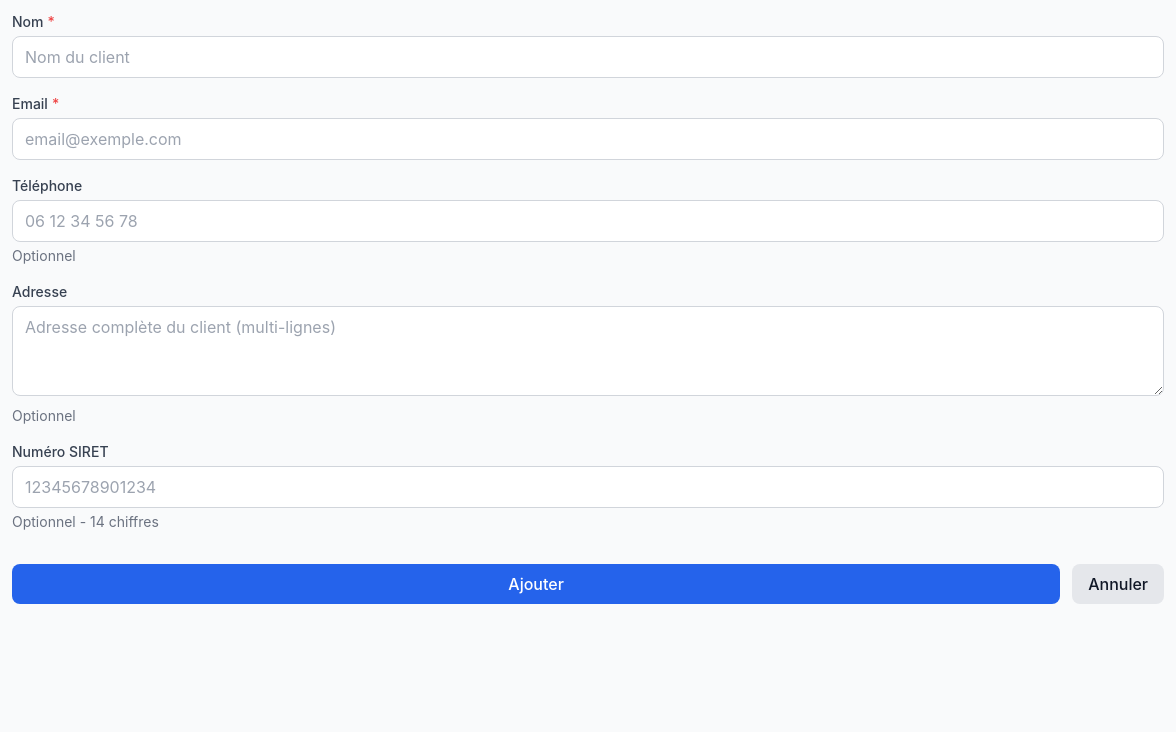
Test case: ClientForm › shows required error for empty nom on submit
Step 1. Type "test@example.com" into the field with placeholder "email@exemple.com" → (588, 139), box x1=12 y1=118 x2=1164 y2=160
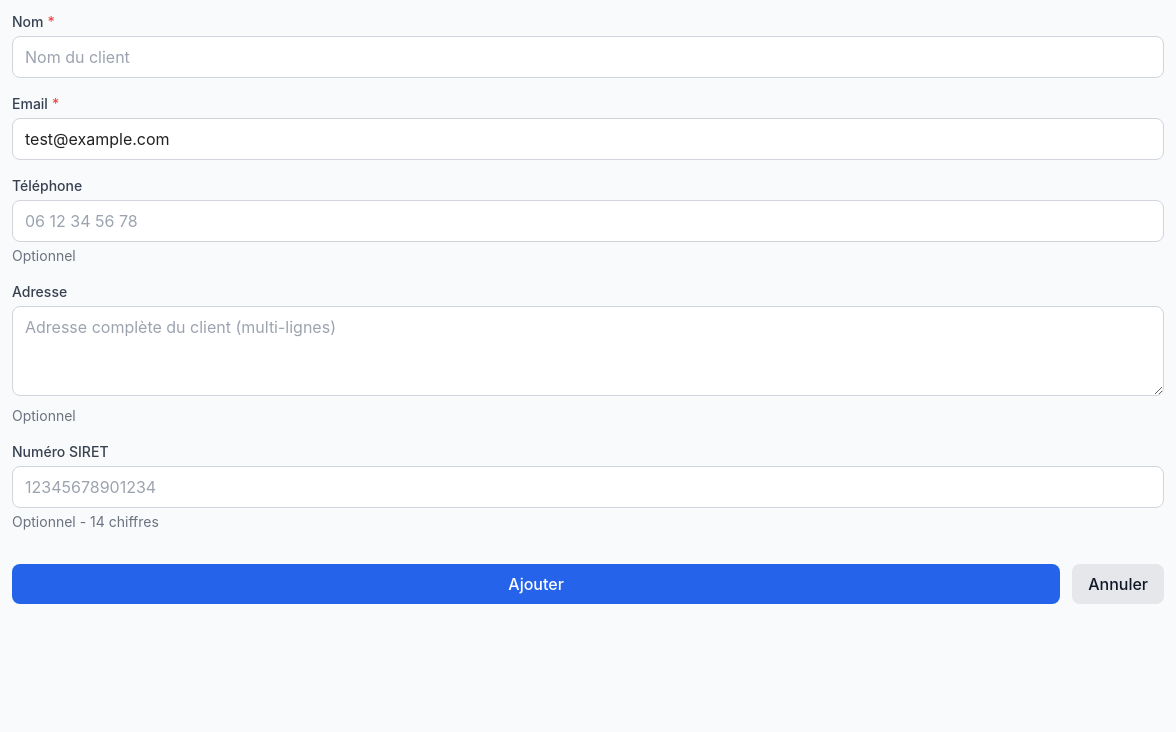
Step 2. Submit the form named "Ajouter"
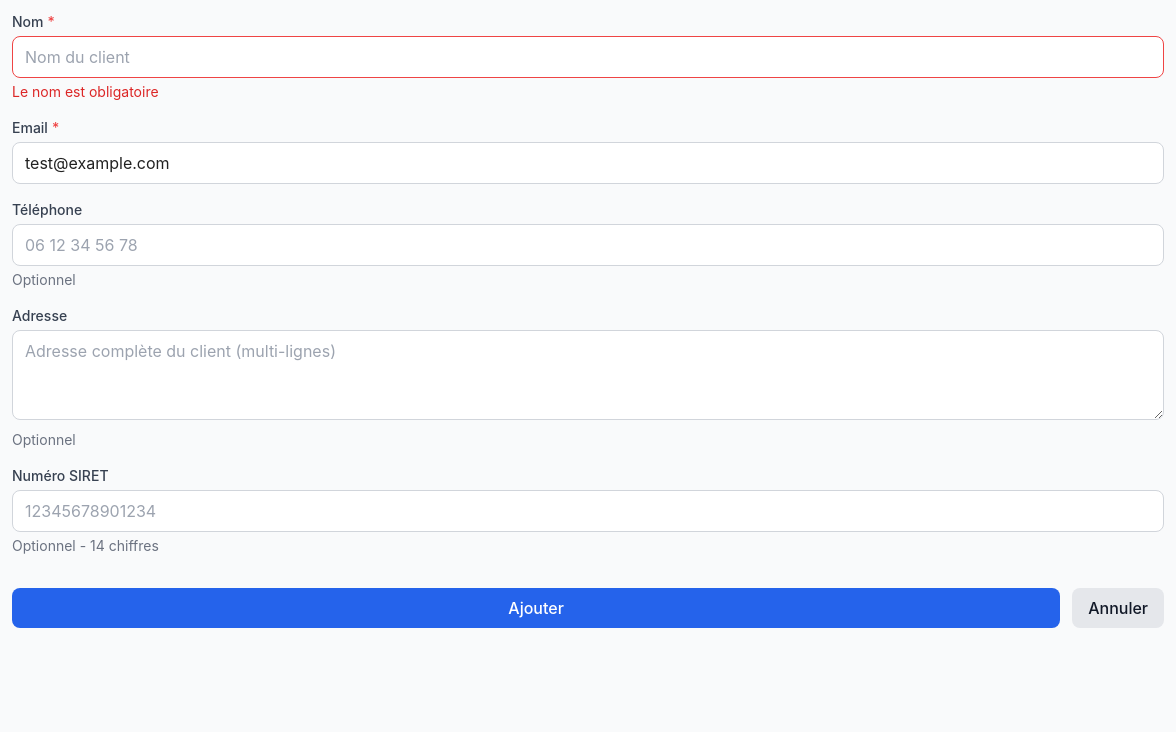
Expected: the text "Le nom est obligatoire" is shown, x1=12 y1=83 x2=159 y2=100
